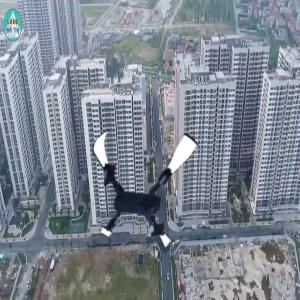drone: (80, 118, 210, 248)
